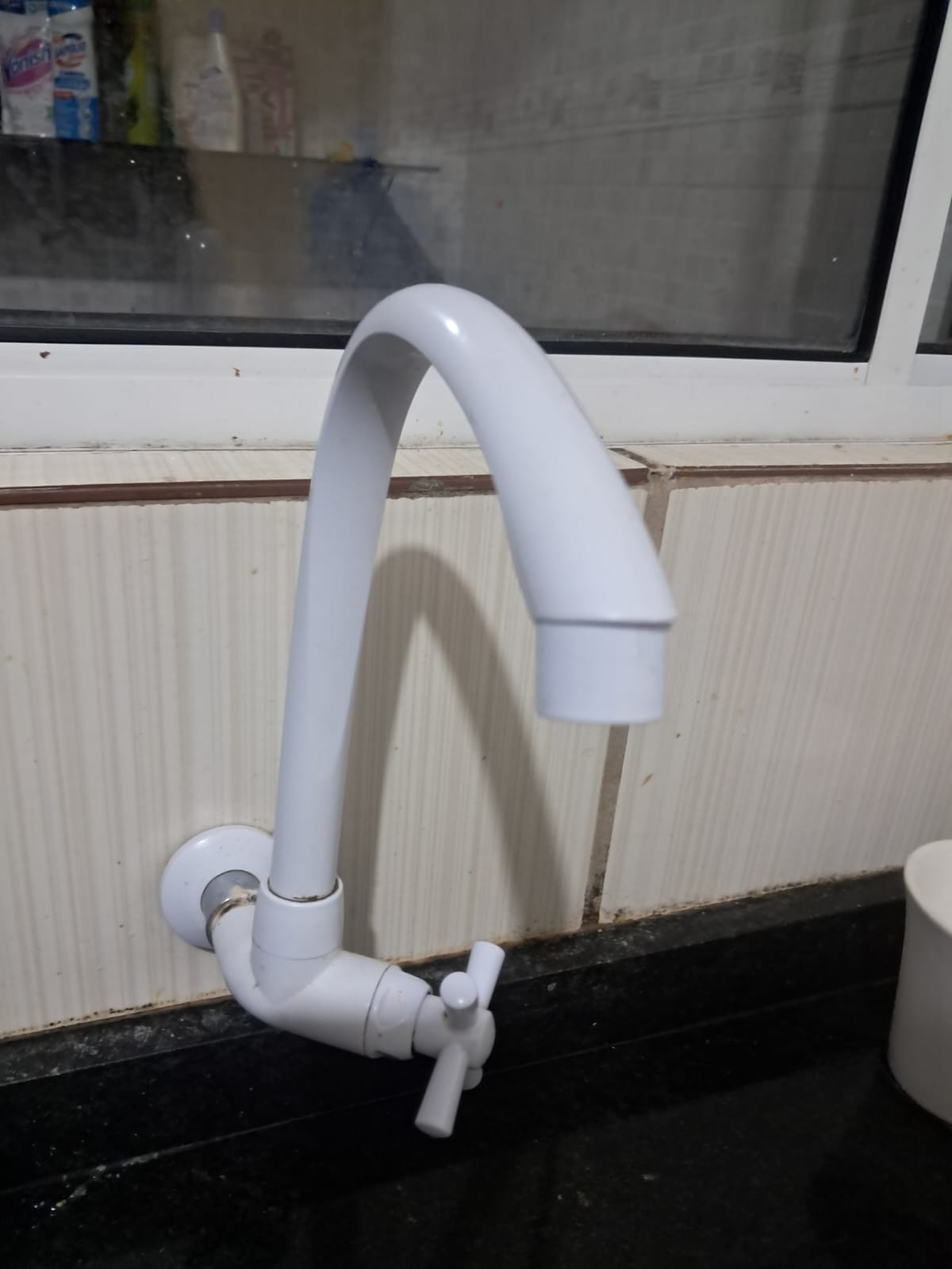torneira_fechada: (119, 244, 703, 1153)
